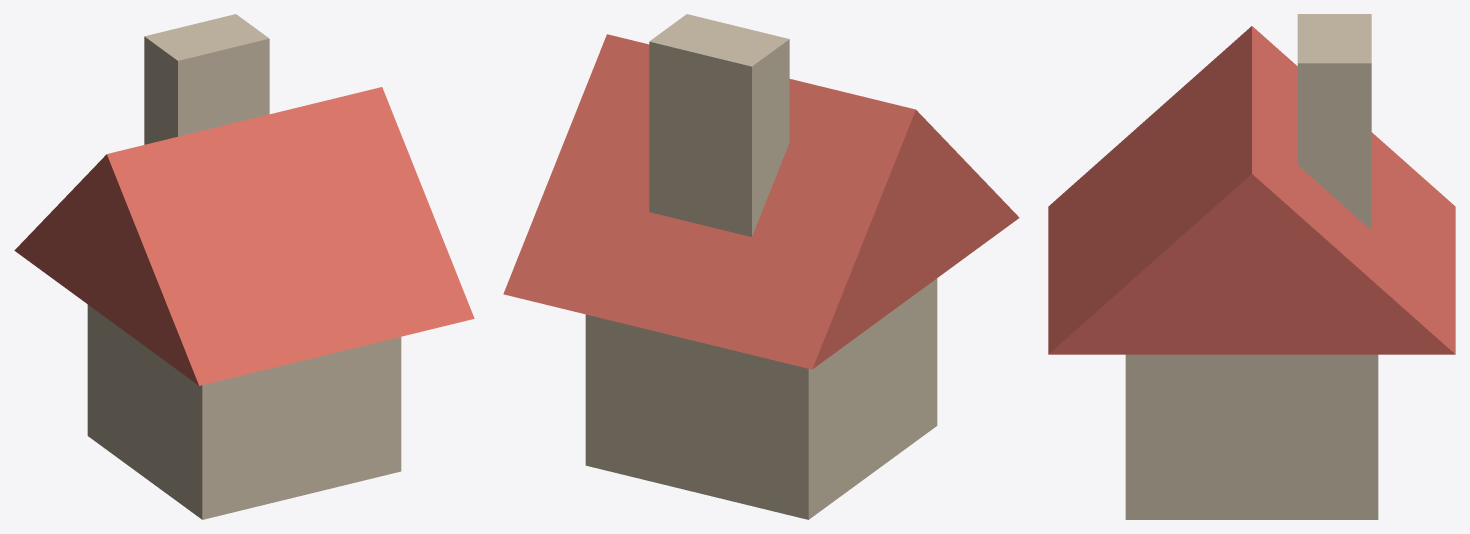
File: Huisje.fbx
The picture shows the model from 3 angles, left to right: view 1: azimuth 30°, elevation 25°; view 2: azimuth 150°, elevation 25°; view 3: azimuth 270°, elevation 25°; orthographic projection. The views are drawn at different scales.
Visible parts, largest first — view 1: Huis_1; view 2: Huis_1; view 3: Huis_1.
Part boxes in pixels (x1=…): Huis_1: x1=14, y1=14, x2=474, y2=519; Huis_1: x1=503, y1=14, x2=1019, y2=519; Huis_1: x1=1048, y1=14, x2=1455, y2=519.
Size of the model in its own units: 0.5374 by 0.725 by 0.6251.
